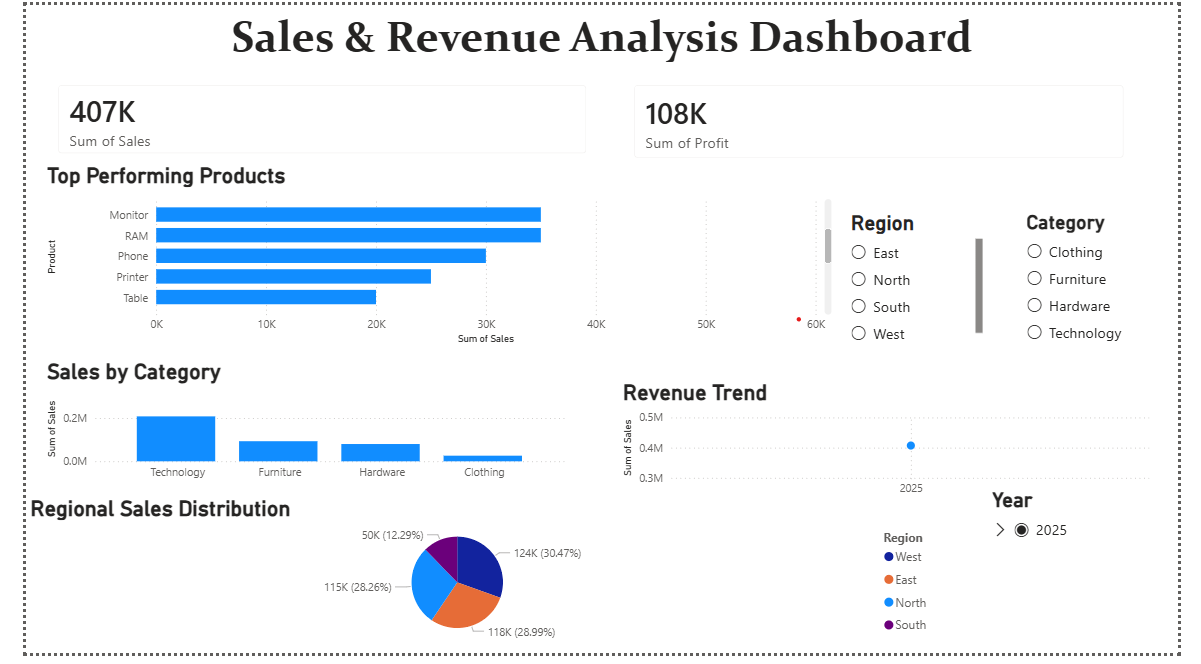

What the dashboard file says about the page in this screenshot:
{"tool":"powerbi","page":{"name":"Page 1","canvas":[1280,720],"ordinal":0},"visuals":[{"type":"cardVisual","fields":{"Data":["Sum(Sheet1.Sales)"]},"box":[18.3,71.7,621.7,110],"z":0},{"type":"cardVisual","fields":{"Data":["Sum(Sheet1.Profit)"]},"box":[658.3,71.7,578.3,115],"z":1},{"type":"lineChart","title":"Revenue Trend","fields":{"Category":["Sheet1.Order Date.Variation.Date Hierarchy.Year","Sheet1.Order Date.Variation.Date Hierarchy.Quarter","Sheet1.Order Date.Variation.Date Hierarchy.Month","Sheet1.Order Date.Variation.Date Hierarchy.Day"],"Y":["Sum(Sheet1.Sales)"]},"box":[658.3,416.7,595,138.3],"z":2},{"type":"clusteredBarChart","title":"Top Performing Products","fields":{"Category":["Sheet1.Product"],"Y":["Sum(Sheet1.Sales)"]},"box":[18.3,175,881.7,206.7],"z":3},{"type":"pieChart","title":"Regional Sales Distribution","fields":{"Category":["Sheet1.Region"],"Y":["Sum(Sheet1.Sales)"]},"box":[0,545,1021.7,165],"z":4},{"type":"clusteredColumnChart","title":"Sales by Category","fields":{"Category":["Sheet1.Category"],"Y":["Sum(Sheet1.Sales)"]},"box":[18.3,393.3,586.7,143.3],"z":5},{"type":"listSlicer","fields":{"Values":["Sheet1.Region"]},"box":[911.7,228.3,156.7,153.3],"z":6},{"type":"listSlicer","fields":{"Values":["Sheet1.Order Date.Variation.Date Hierarchy.Year","Sheet1.Order Date.Variation.Date Hierarchy.Quarter","Sheet1.Order Date.Variation.Date Hierarchy.Month","Sheet1.Order Date.Variation.Date Hierarchy.Day"]},"box":[1068.3,536.7,156.7,183.3],"z":8},{"type":"textbox","box":[0,0,1280,71.7],"z":9},{"type":"listSlicer","fields":{"Values":["Sheet1.Category"]},"box":[1106.7,228.3,146.7,165],"z":10}]}

Visuals, with their boxes in screenshot pixels (x1, y1, x2, y2), scaled from the page's 1280x720 canvas onto the 1201x664 screenshot:
cardVisual - Sum(Sheet1.Sales): rect(17, 66, 600, 168)
cardVisual - Sum(Sheet1.Profit): rect(618, 66, 1160, 172)
"Revenue Trend" lineChart: rect(618, 384, 1176, 512)
"Top Performing Products" clusteredBarChart: rect(17, 161, 844, 352)
"Regional Sales Distribution" pieChart: rect(0, 503, 959, 655)
"Sales by Category" clusteredColumnChart: rect(17, 363, 568, 495)
listSlicer - Sheet1.Region: rect(855, 211, 1002, 352)
listSlicer - Sheet1.Order Date.Variation.Date Hierarchy.Year x Sheet1.Order Date.Variation.Date Hierarchy.Quarter: rect(1002, 495, 1149, 663)
textbox: rect(0, 0, 1200, 66)
listSlicer - Sheet1.Category: rect(1038, 211, 1176, 363)
